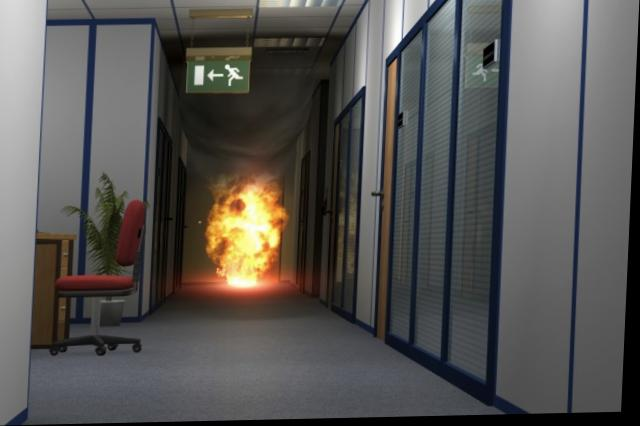fire: (181, 162, 301, 292)
